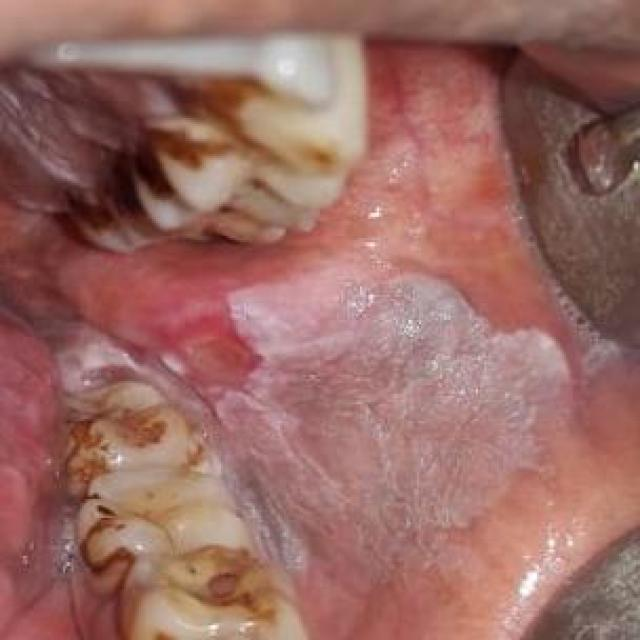leukoplakia-detection: (214, 168, 572, 595), (367, 57, 526, 276)
processing_area: (2, 8, 637, 638)
